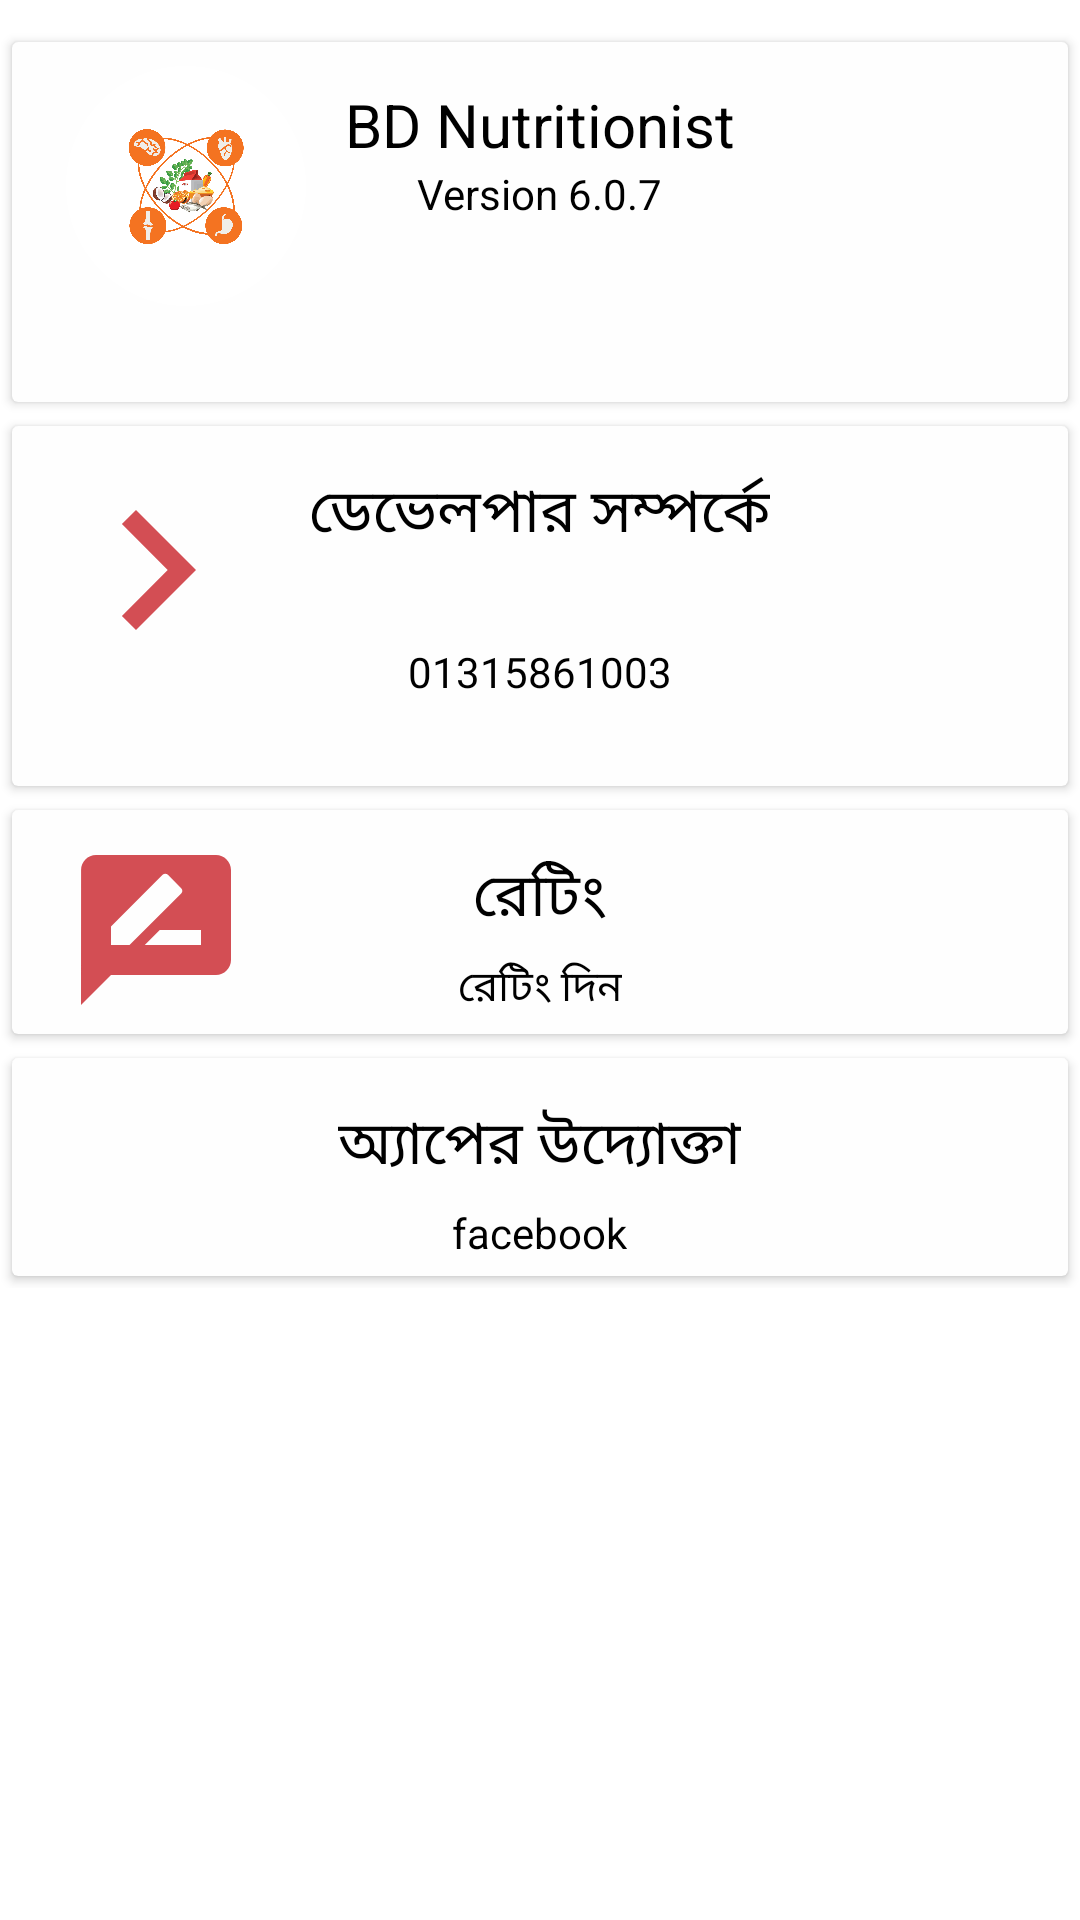

Point at icon controls on the screen. Image size 1080w x 1920h, points as (x,y).
chevron right: (159,570)
rate review: (156,930)
